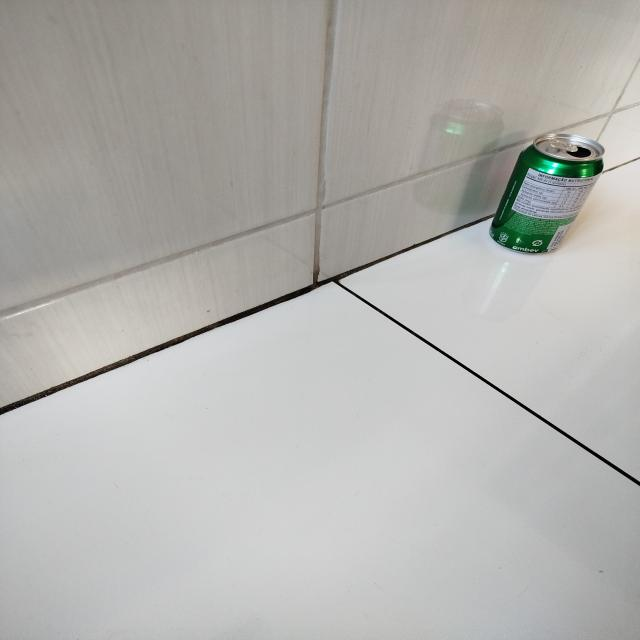Guarana: (486, 132, 606, 256)
